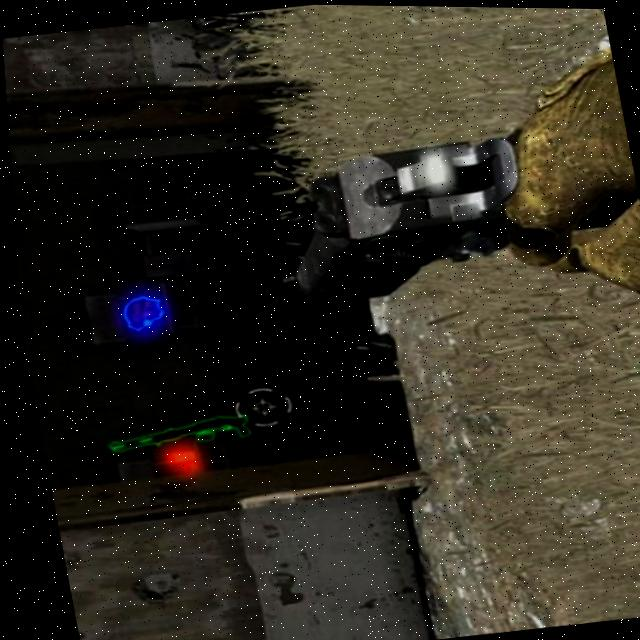firearm: (92, 408, 251, 456)
pistol: (253, 127, 538, 308)
